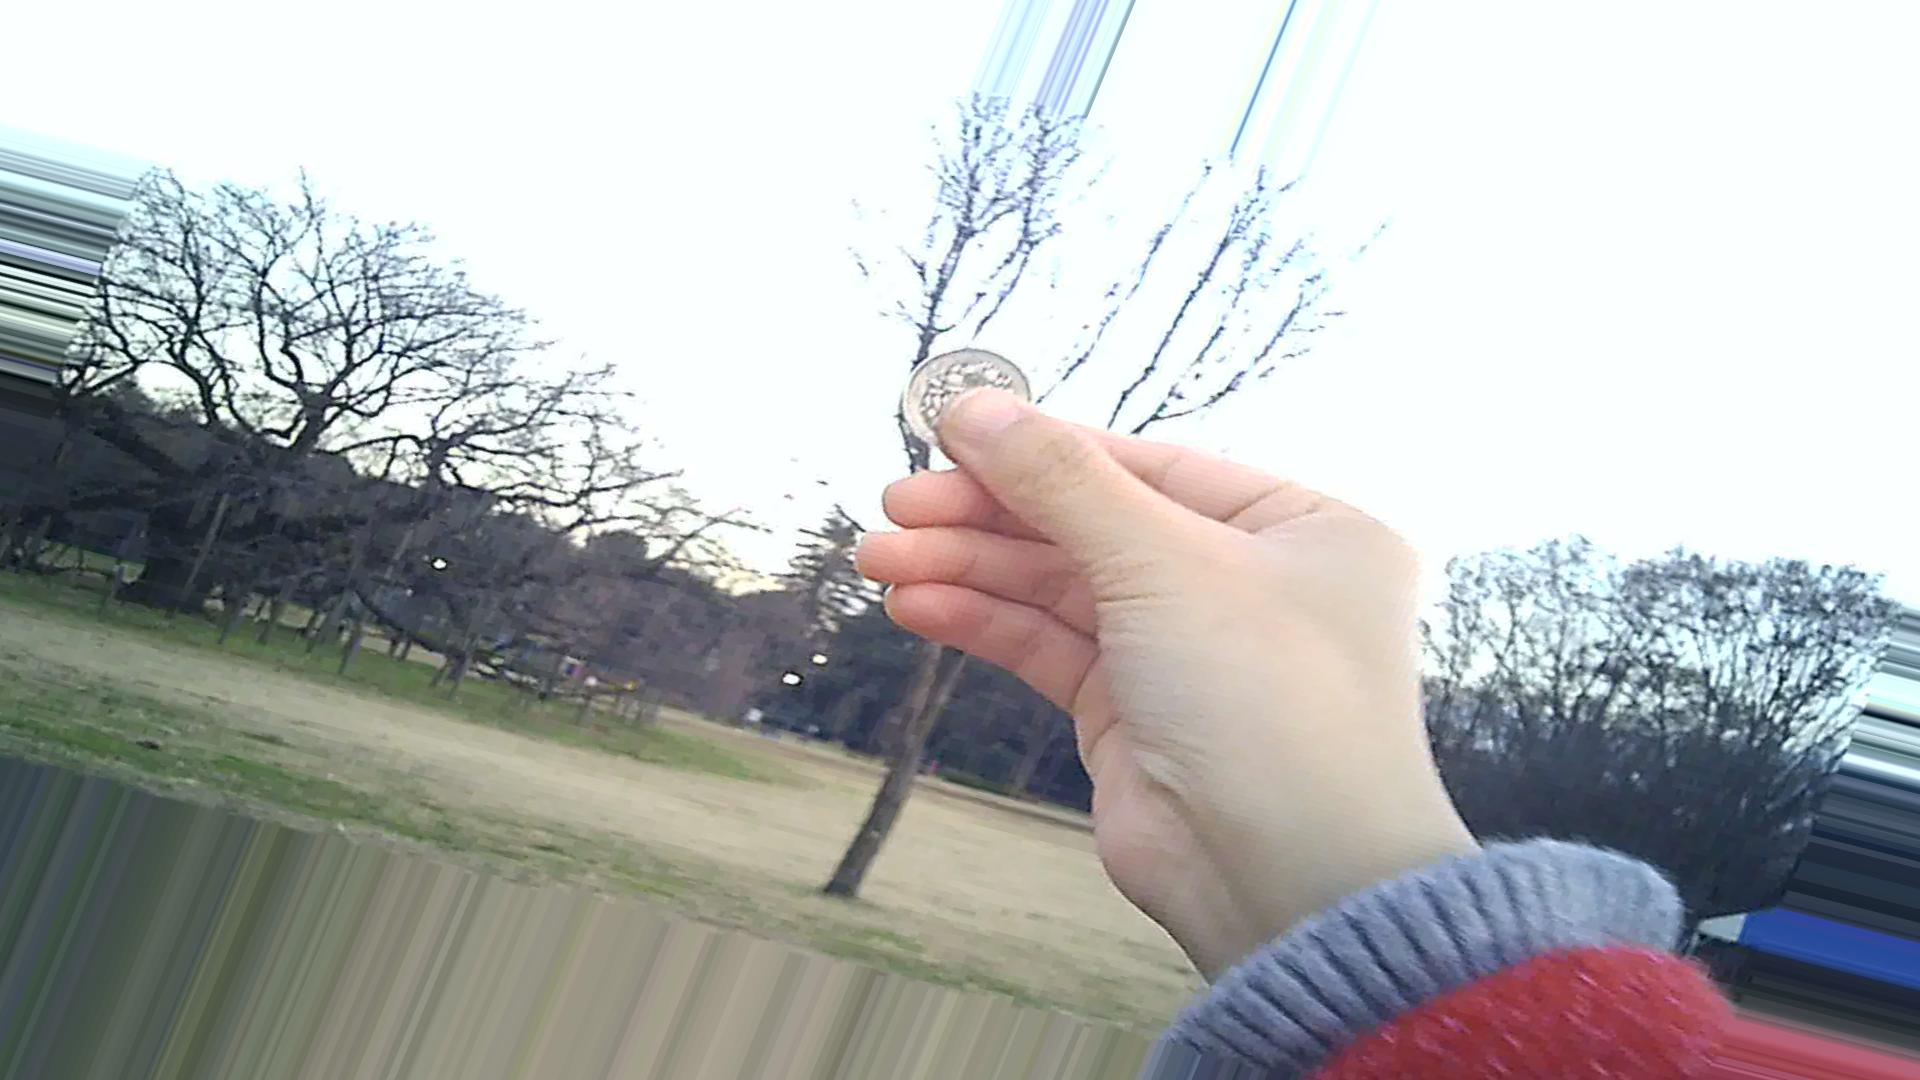100 Yen: (909, 334, 1033, 469)
